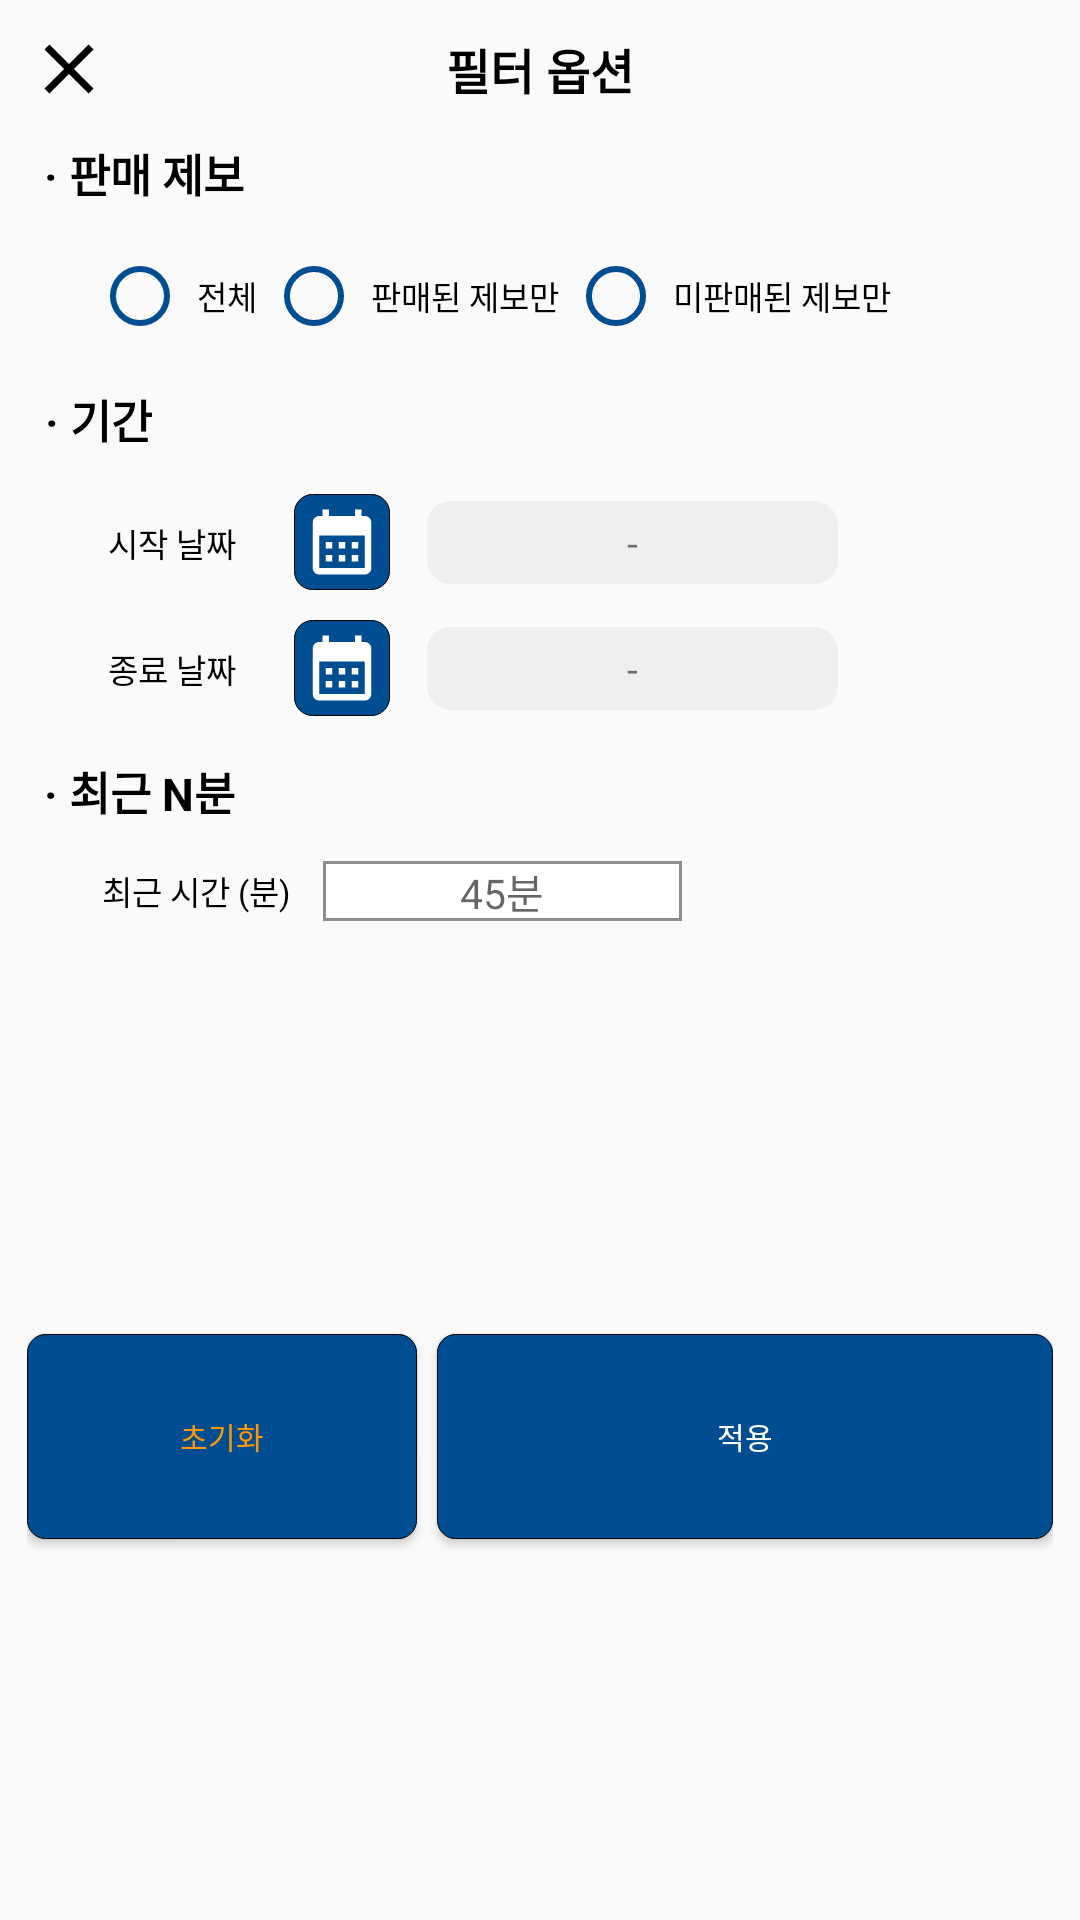

Where icons sit on this 1080 × 1920 app screen, as (x1, y1, x2, y2):
calendar month: (294, 494, 390, 590), (294, 620, 390, 716)
clear: (44, 44, 94, 94)
